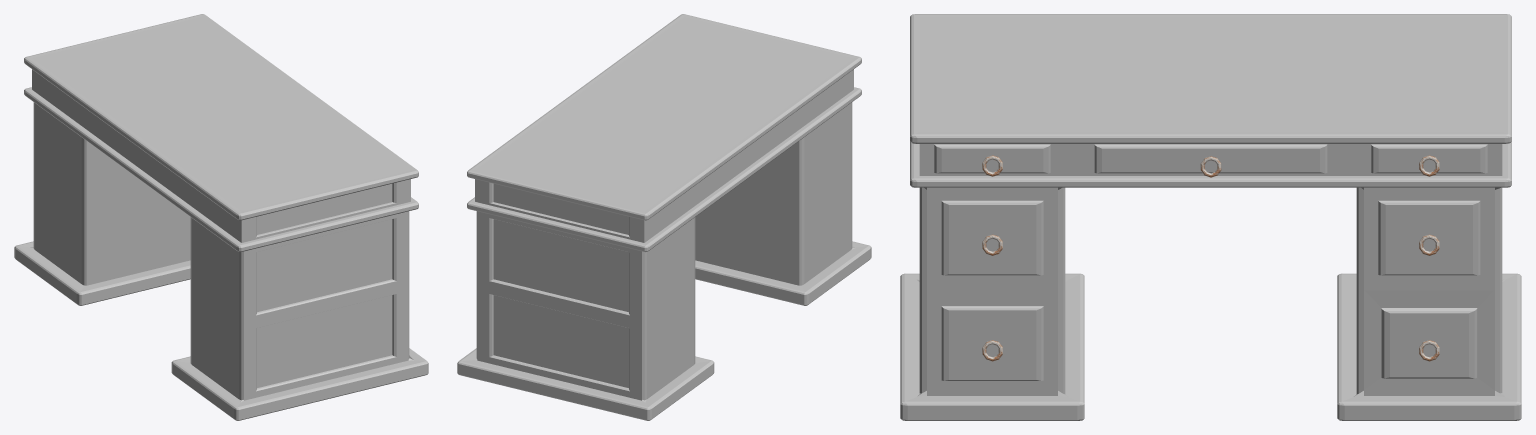
Rendered from WoodenDesk.fbx.
3 renders of one model, left to right at view 1: azimuth 30°, elevation 25°; view 2: azimuth 150°, elevation 25°; view 3: azimuth 270°, elevation 25°, orthographic. The views are drawn at different scales.
Visible parts, largest first — view 1: WoodenDesk; view 2: WoodenDesk; view 3: WoodenDesk.
Boxes of the visible parts, <box> form: WoodenDesk: <box>14,14,428,420</box>; WoodenDesk: <box>457,14,871,420</box>; WoodenDesk: <box>900,14,1521,420</box>.
Bounding box in the file's own units: 3.2 × 3.21 × 6.4.
